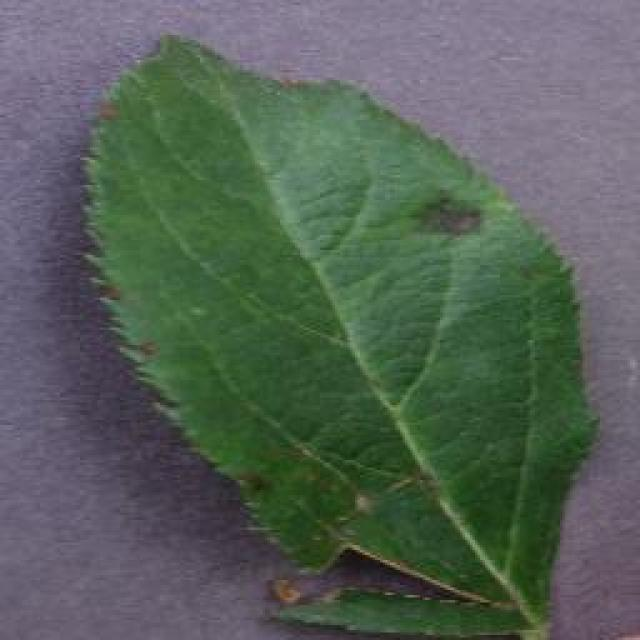apple scab disease: (75, 30, 603, 638)
